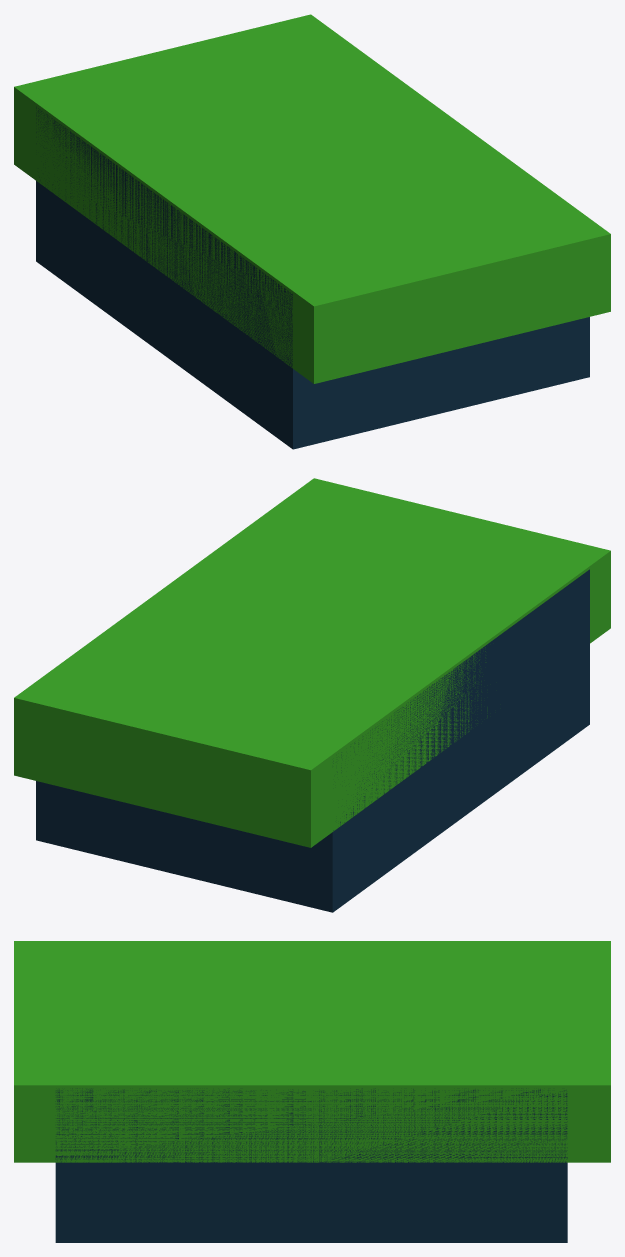
The model's file is wall3.fbx.
3 renders of one model, top to bottom at view 1: azimuth 30°, elevation 25°; view 2: azimuth 150°, elevation 25°; view 3: azimuth 270°, elevation 25°, orthographic.
Visible parts, largest first — view 1: Cube, Cube (2); view 2: Cube, Cube (2); view 3: Cube, Cube (2).
Part boxes in pixels (left/top/right/bottom): Cube: left=14, top=14, right=610, bottom=383; Cube (2): left=36, top=106, right=589, bottom=449; Cube: left=14, top=478, right=610, bottom=847; Cube (2): left=36, top=569, right=589, bottom=912; Cube: left=14, top=941, right=610, bottom=1162; Cube (2): left=55, top=1088, right=567, bottom=1242.
Bounding box in the file's own units: 200 × 102 × 350.
